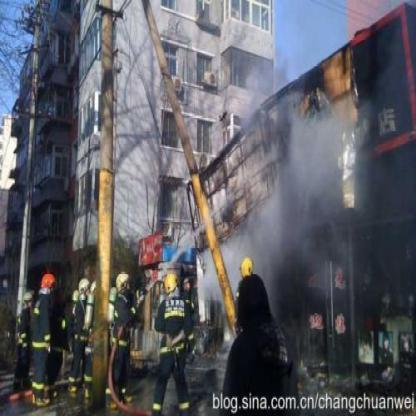smoke: (278, 108, 347, 233), (203, 228, 287, 284)
